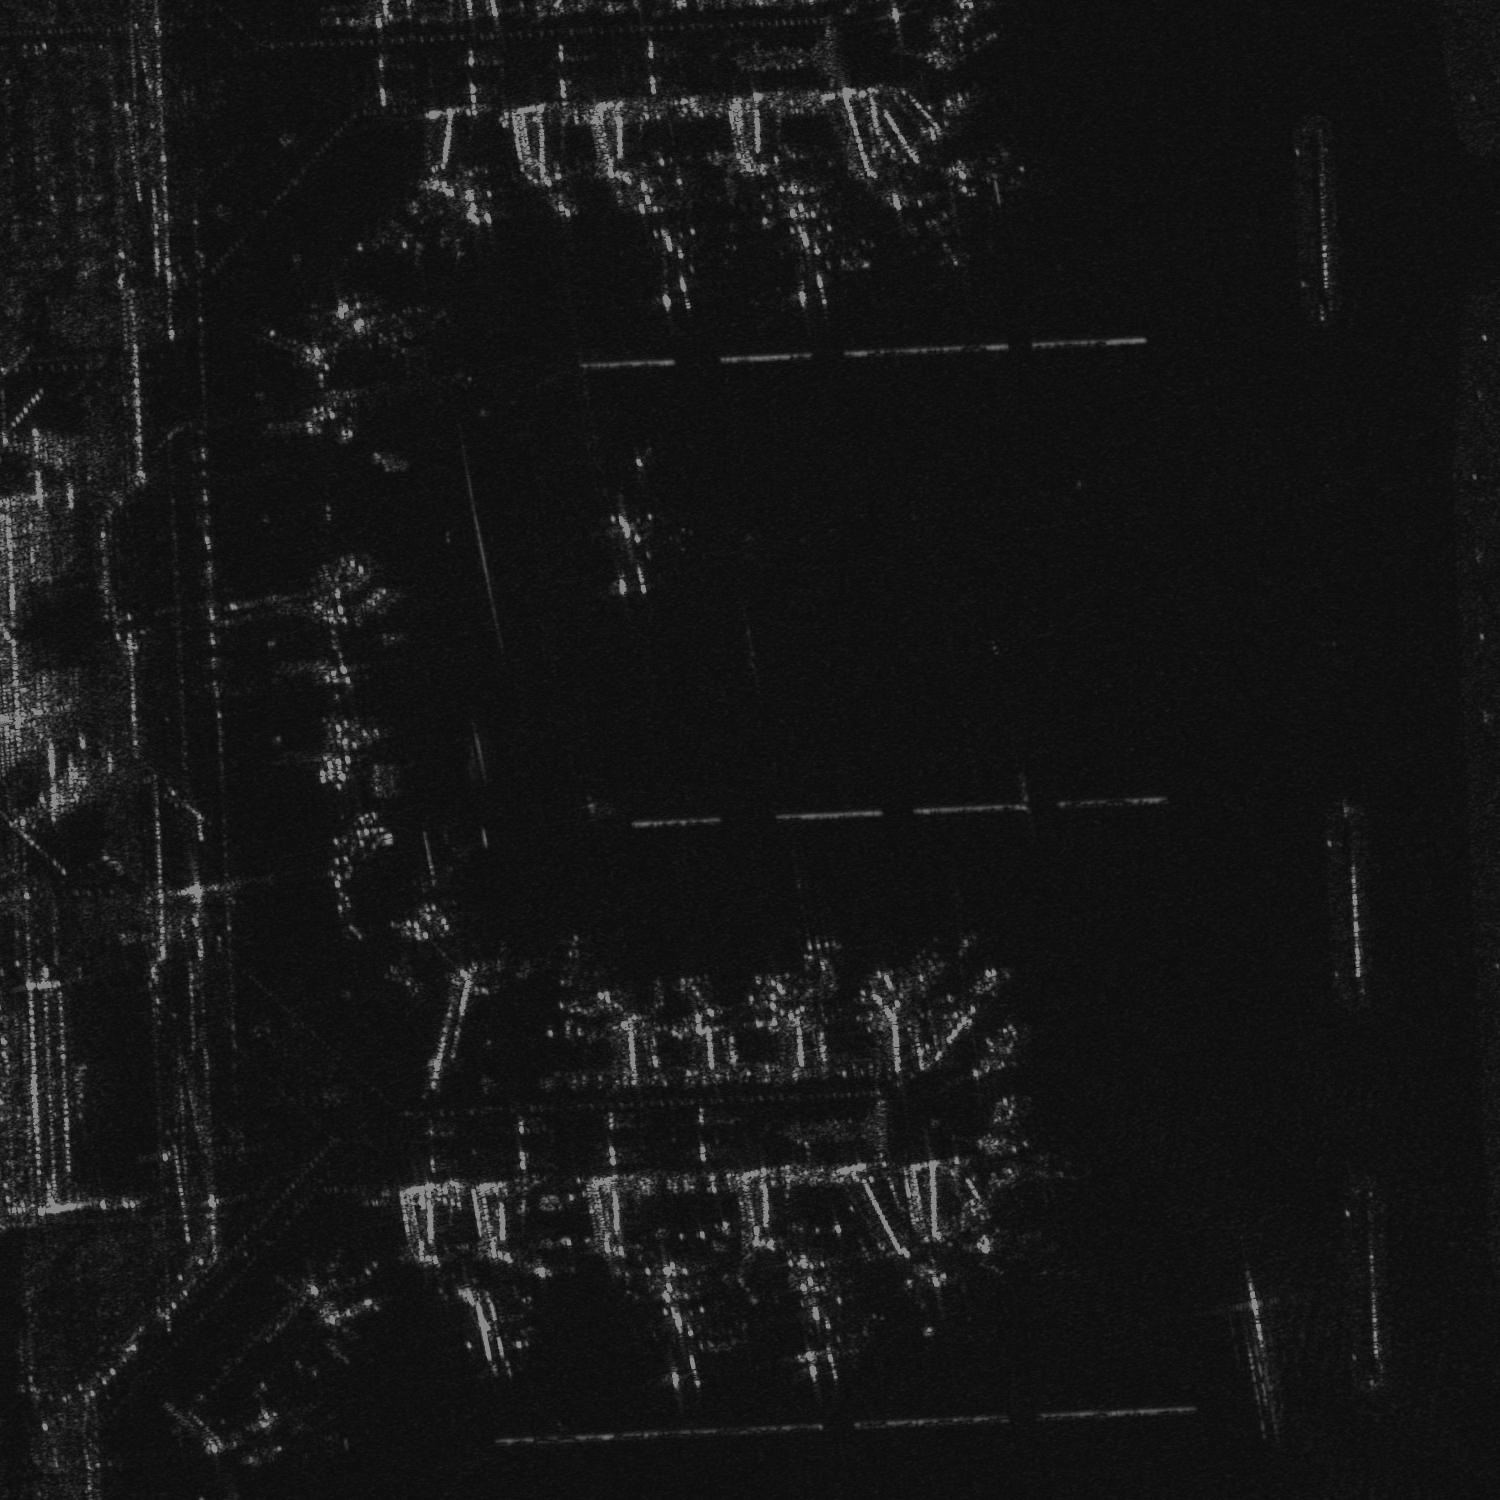A320/321: (312, 543, 426, 646), (765, 194, 846, 310), (923, 135, 1034, 217)
A330: (326, 291, 448, 374)
Boeing737: (449, 1271, 527, 1376), (880, 183, 977, 268), (896, 1253, 964, 1342)
Boeing787: (646, 1277, 729, 1398), (626, 217, 713, 310)
other: (587, 488, 674, 609), (777, 1271, 865, 1387)
